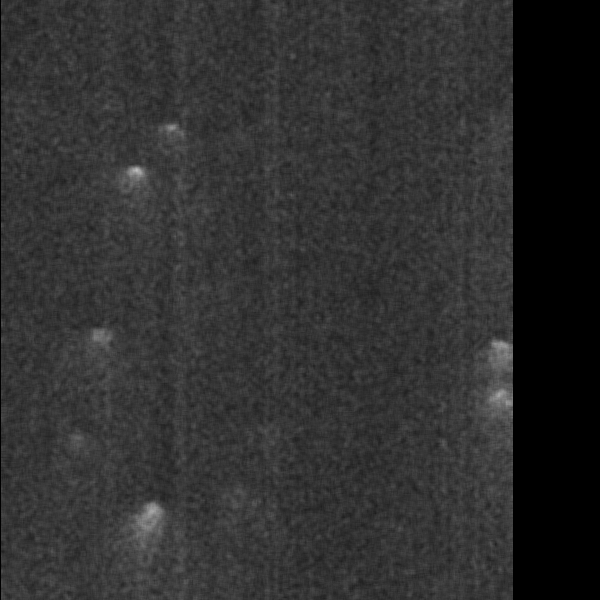spark: (482, 332, 518, 457), (139, 496, 166, 565), (81, 324, 131, 360), (119, 160, 149, 204), (157, 115, 185, 147)
